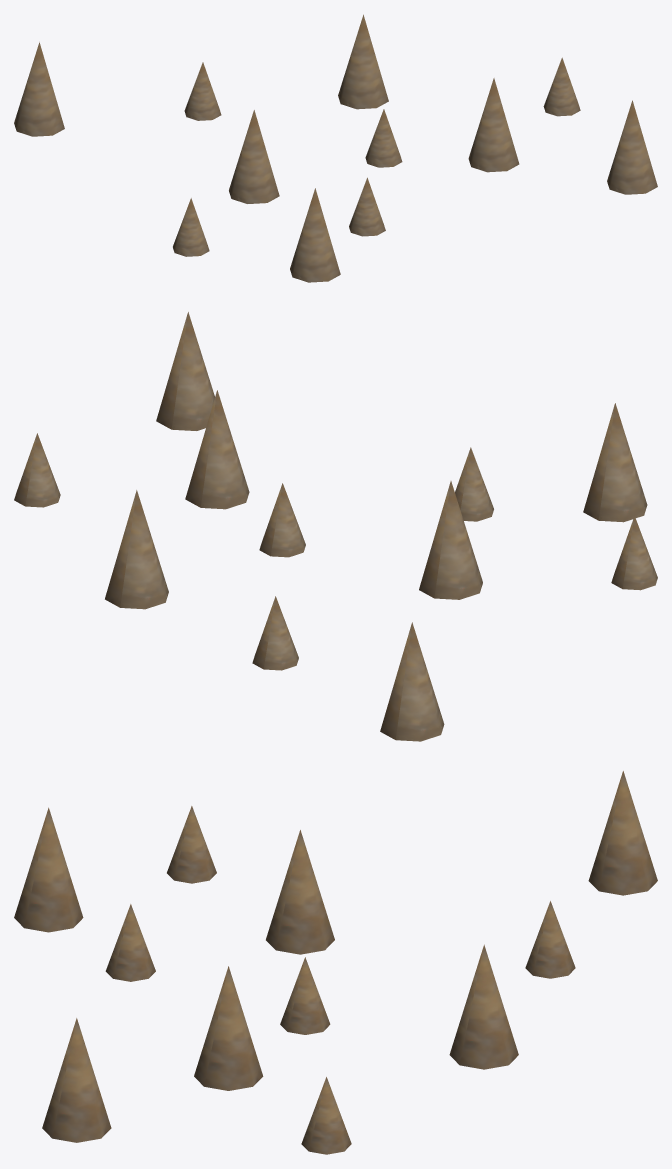
File: Pics.FBX
3 views of the same model, one above another, from view 1: azimuth 30°, elevation 25°; view 2: azimuth 150°, elevation 25°; view 3: azimuth 270°, elevation 25° (orthographic). The views are drawn at different scales.
Parts seen in each view (by area): view 1: Pics; view 2: Pics; view 3: Pics.
Part boxes in pixels (left/top/right/bottom): Pics: left=14, top=14, right=657, bottom=282; Pics: left=14, top=312, right=657, bottom=741; Pics: left=14, top=771, right=657, bottom=1154.
Size of the model in its own units: 217 by 38.36 by 202.
